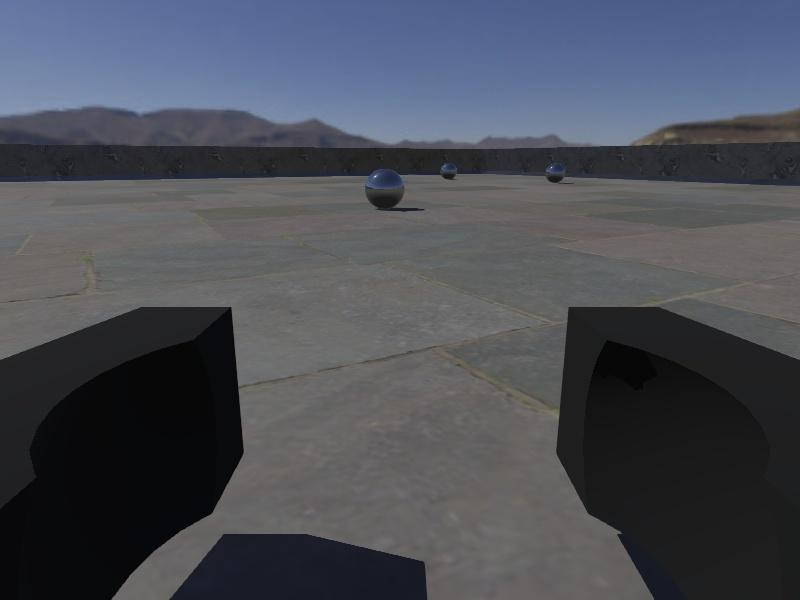steel ball: (365, 168, 405, 210), (545, 162, 566, 182), (439, 162, 458, 178)
